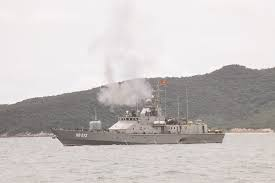tau_muctieu: (50, 101, 226, 146)
